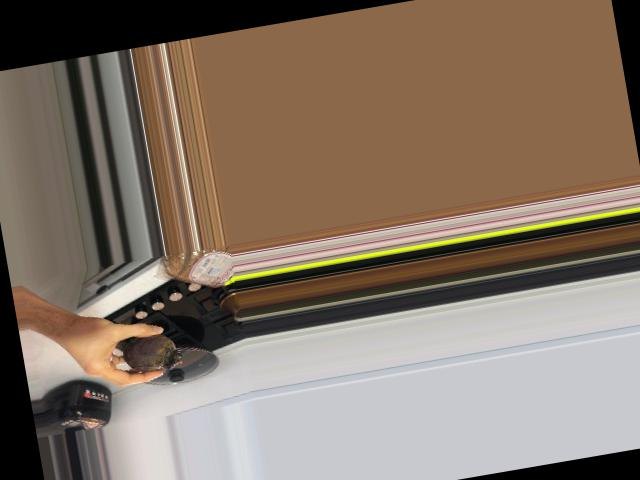beet: (117, 330, 184, 376)
